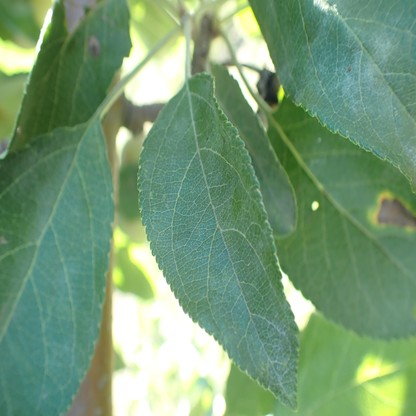frogeye_leaf_spot: (89, 35, 102, 57)
powdery_mildew: (139, 72, 300, 413), (247, 0, 416, 190)
rust: (368, 191, 416, 232)
